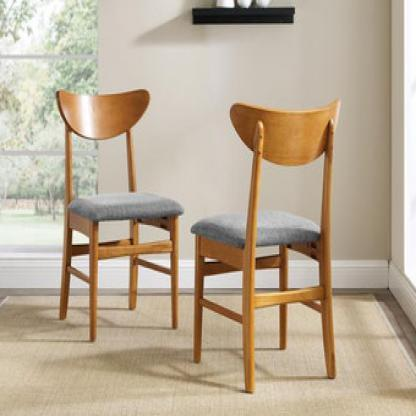chair: (190, 94, 356, 413), (44, 84, 184, 368)
